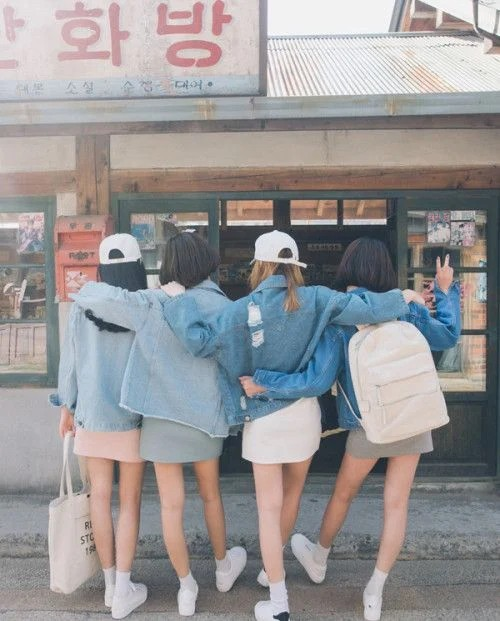people: (147, 229, 229, 606), (237, 229, 314, 621), (334, 231, 409, 621), (84, 226, 149, 621)
